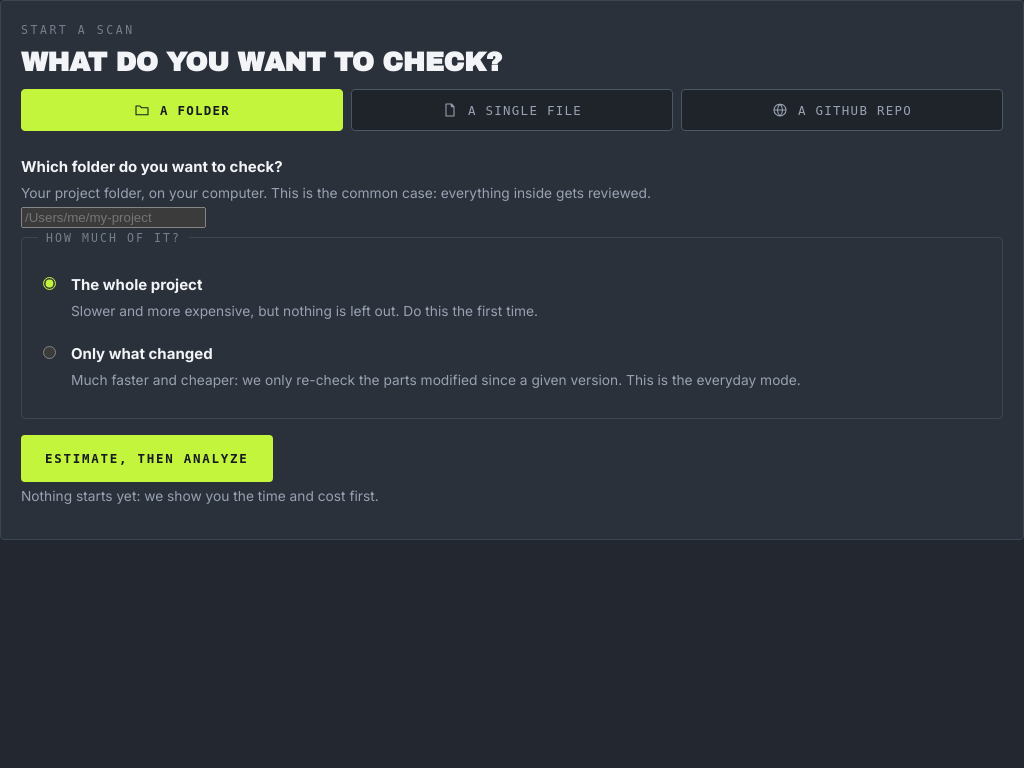
Test case: ScanLauncher › cache le choix de l'étendue sur un fichier seul
Click the tab "A single file" at (512, 110), box [351, 89, 673, 131]
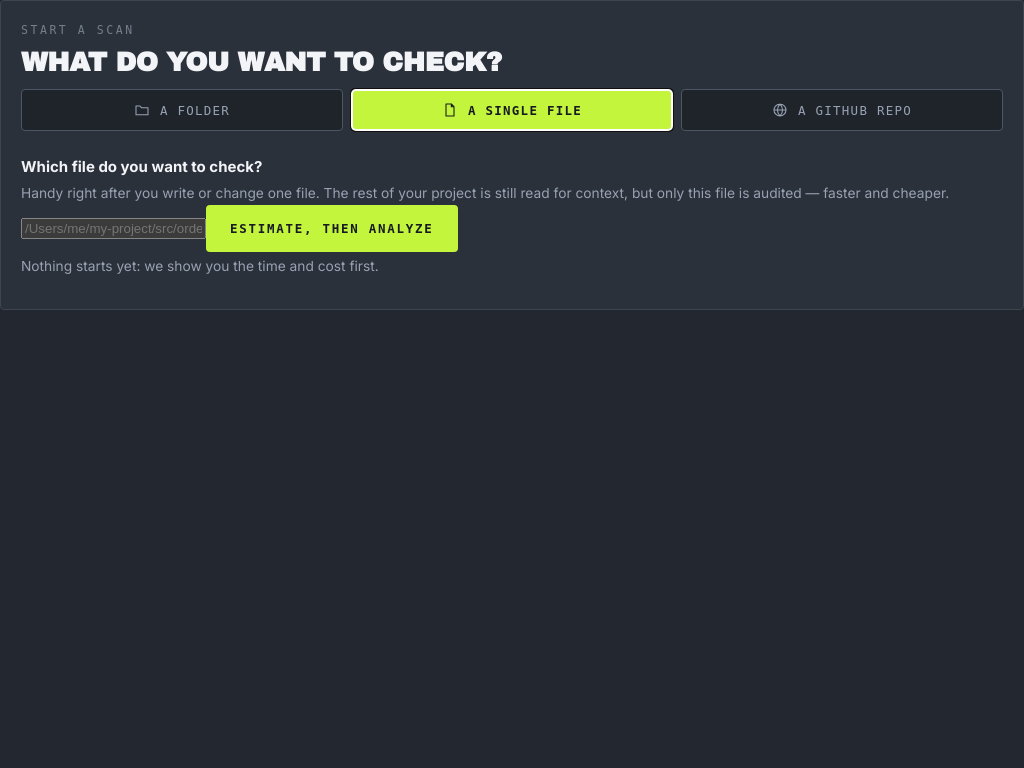
expect the text labelled "Only what changed" is gone: met
